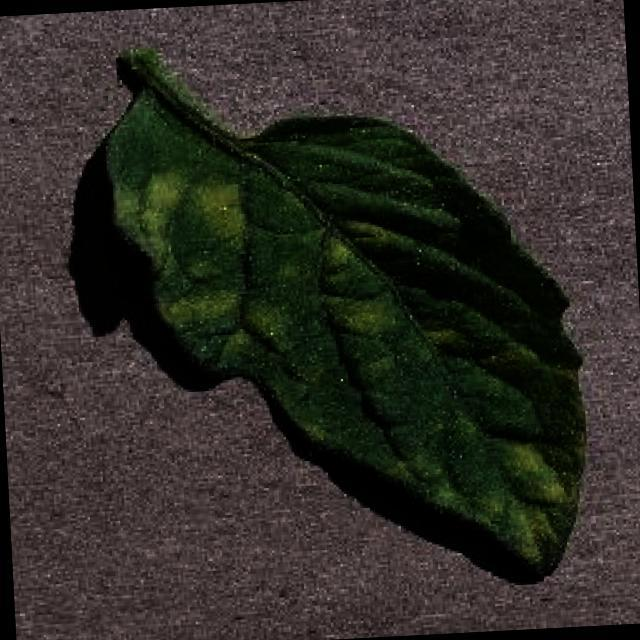Tomato mold leaf: (100, 63, 598, 599)
